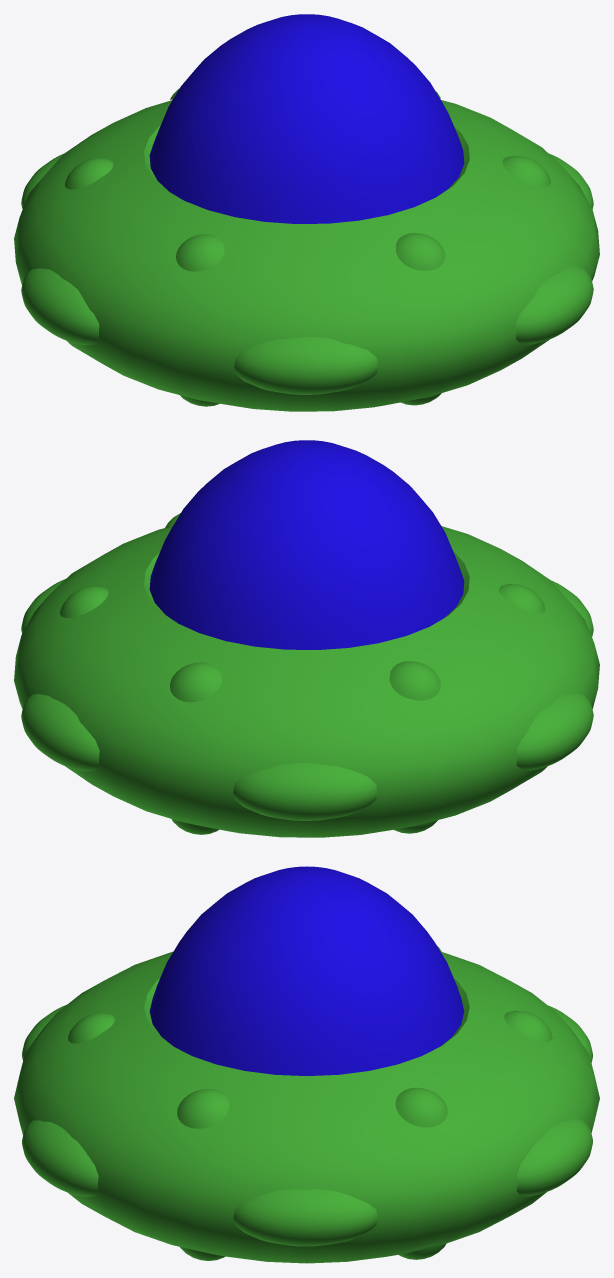
Rendered from Goober_UFO.fbx.
3 renders of one model, top to bottom at view 1: azimuth 30°, elevation 25°; view 2: azimuth 150°, elevation 25°; view 3: azimuth 270°, elevation 25°, orthographic.
Visible parts, largest first — view 1: Goober_UFO, UFO_Glass; view 2: Goober_UFO, UFO_Glass; view 3: Goober_UFO, UFO_Glass.
Boxes of the visible parts, bbox=[...] form: Goober_UFO: bbox=[14, 88, 599, 411]; UFO_Glass: bbox=[149, 14, 464, 223]; Goober_UFO: bbox=[14, 513, 599, 837]; UFO_Glass: bbox=[149, 440, 464, 649]; Goober_UFO: bbox=[14, 946, 599, 1263]; UFO_Glass: bbox=[149, 866, 464, 1075].
Size of the model in its own units: 35.88 by 19.83 by 33.74.
